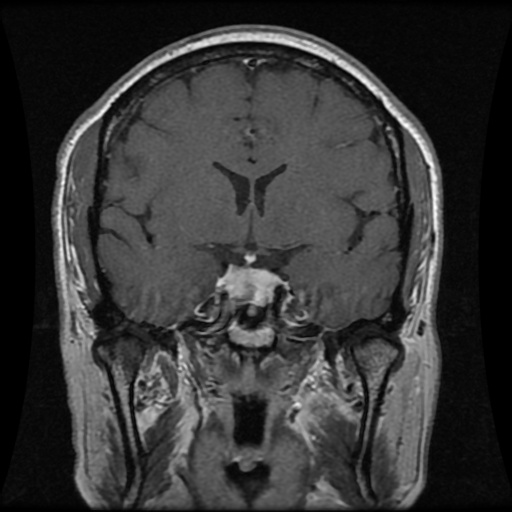pituitary: (217, 265, 278, 303)
